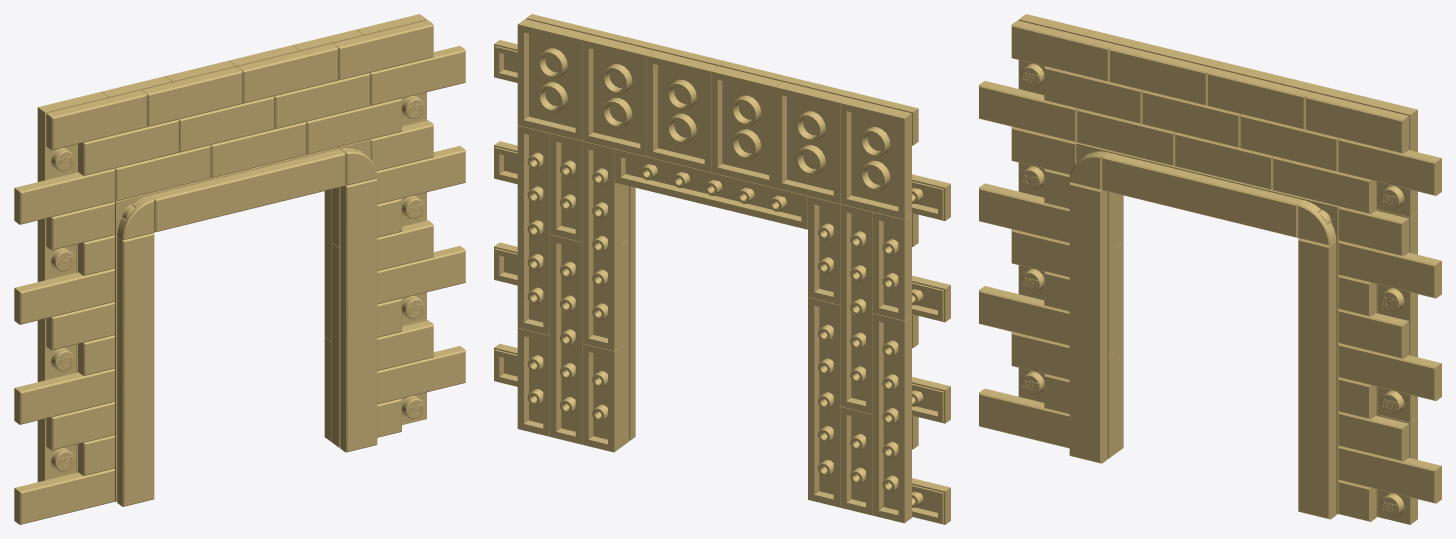
File: entrance.fbx
3 renders of one model, left to right at view 1: azimuth 30°, elevation 25°; view 2: azimuth 150°, elevation 25°; view 3: azimuth 330°, elevation 25°, orthographic. The views are drawn at different scales.
Visible parts, largest first — view 1: part.056, part.054, part.055; view 2: part.056, part.055, part.054; view 3: part.056, part.055, part.054.
Boxes of the visible parts, <box> form: part.056: <box>14,14,465,232</box>; part.054: <box>14,194,154,524</box>; part.055: <box>324,119,465,452</box>; part.056: <box>494,14,950,229</box>; part.055: <box>494,125,635,452</box>; part.054: <box>808,196,950,524</box>; part.056: <box>979,14,1441,237</box>; part.055: <box>1298,198,1441,524</box>; part.054: <box>979,127,1123,463</box>.
Bounding box in the file's own units: 11192 × 9592 × 956.
